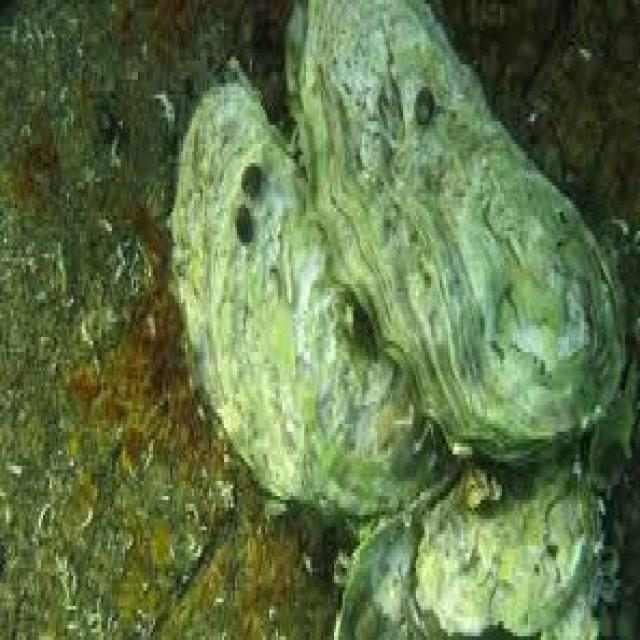Oyster- Indeterminate: (282, 0, 615, 451), (171, 79, 445, 525), (332, 454, 601, 640)
